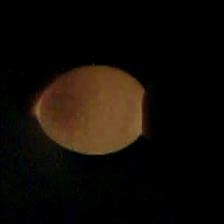infertile: (37, 63, 150, 155)
